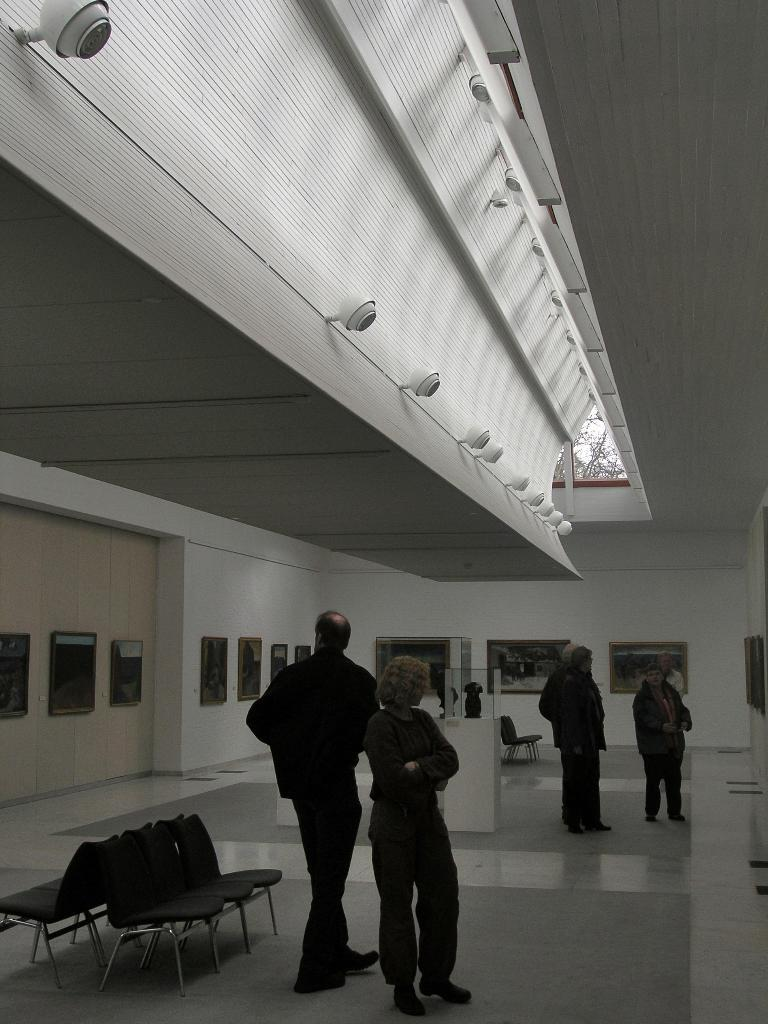Chair: (500, 714, 542, 763)
